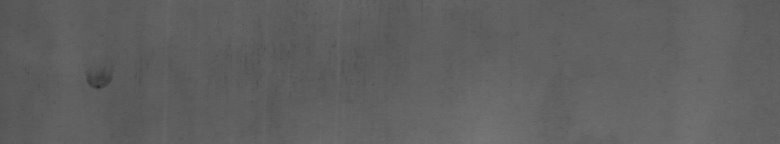fi: (84, 73, 112, 96)
